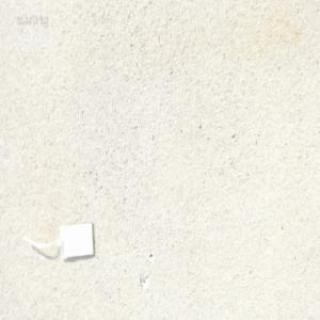LuggageTagtrack_idkeyframe: (21, 217, 95, 262)
